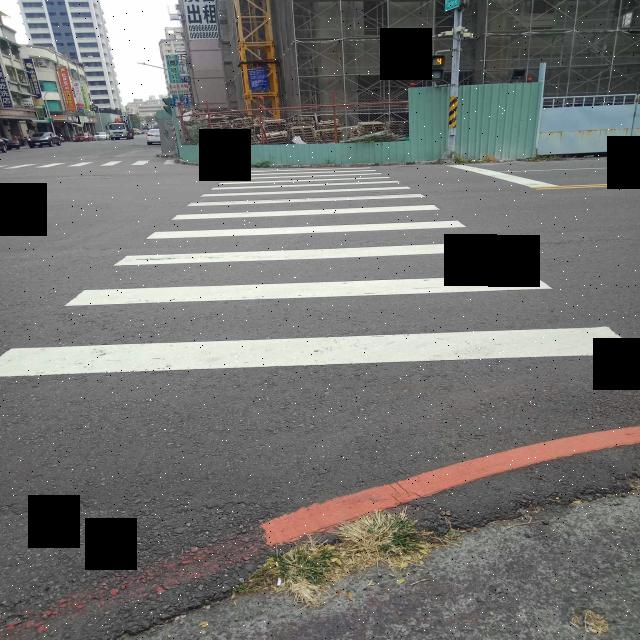zebra_crossing: (259, 84, 497, 257), (171, 75, 172, 242)
